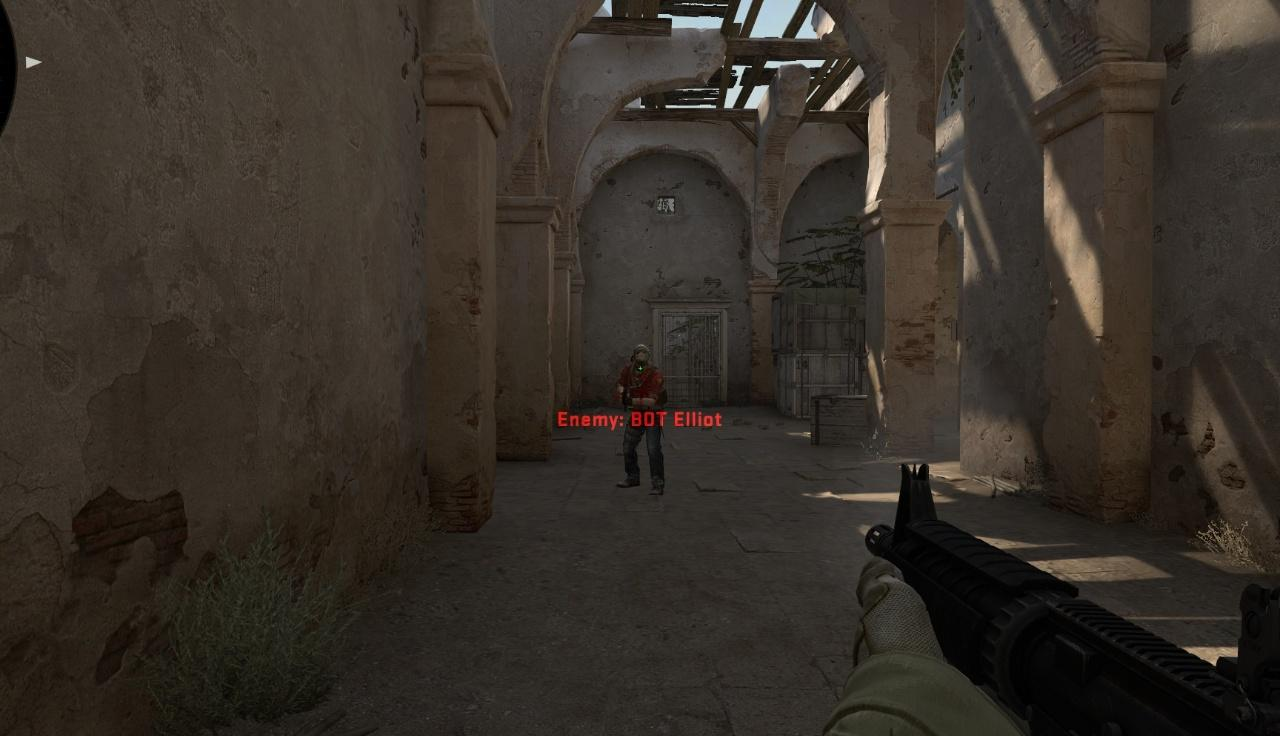rifle: (862, 462, 1280, 736)
tt: (616, 345, 664, 497)
tthead: (631, 344, 650, 363)
